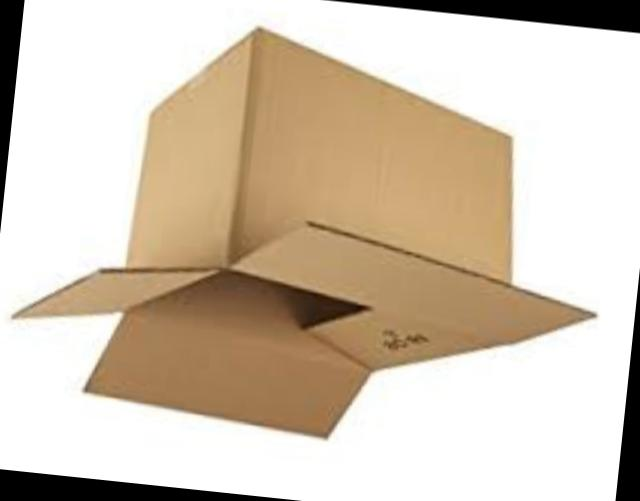cardboard paper: (11, 34, 586, 439)
